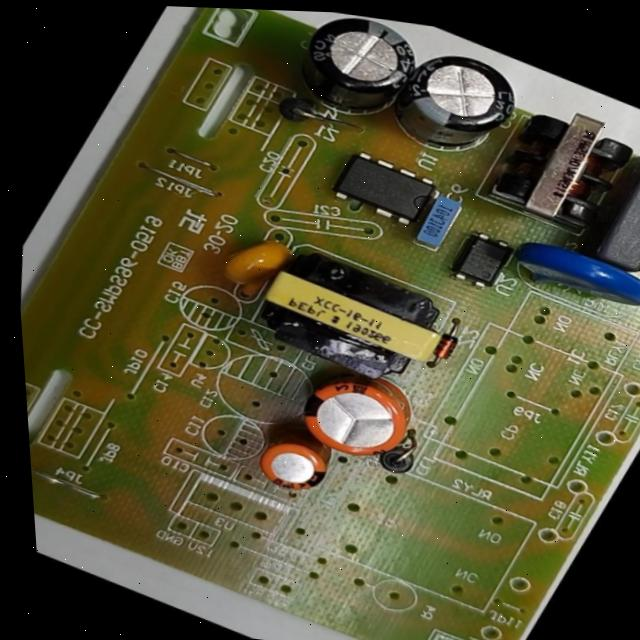Cap1: (267, 349, 444, 488)
Cap2: (236, 421, 355, 516)
Cap3: (366, 21, 550, 174)
Cap4: (253, 9, 448, 152)
MOSFET: (307, 133, 464, 245)
Mov: (489, 220, 640, 328)
Resistor: (631, 199, 640, 280)
Transformer: (222, 219, 501, 421), (448, 75, 640, 264)
